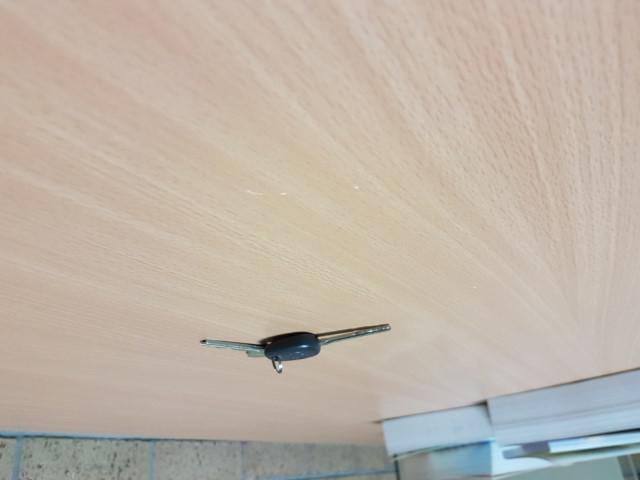key: (259, 319, 394, 364)
